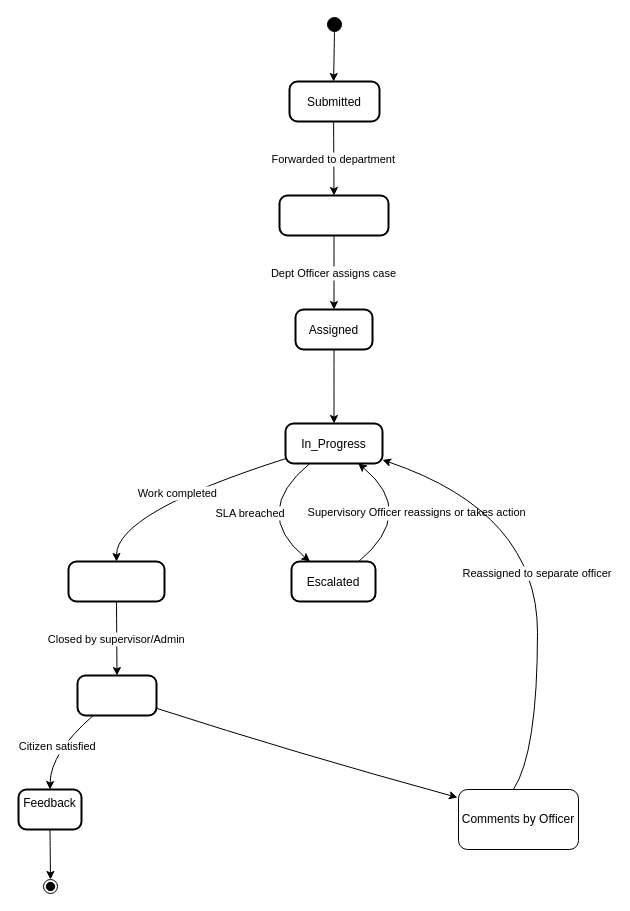
This 630x911 diagram has some shape labels left out. Here are the shapes that lost their labels. From the top down, the box of each, then its label:
(278, 194, 389, 236): Specific Department
(67, 560, 165, 602): Resolved
(76, 674, 157, 716): Closed
